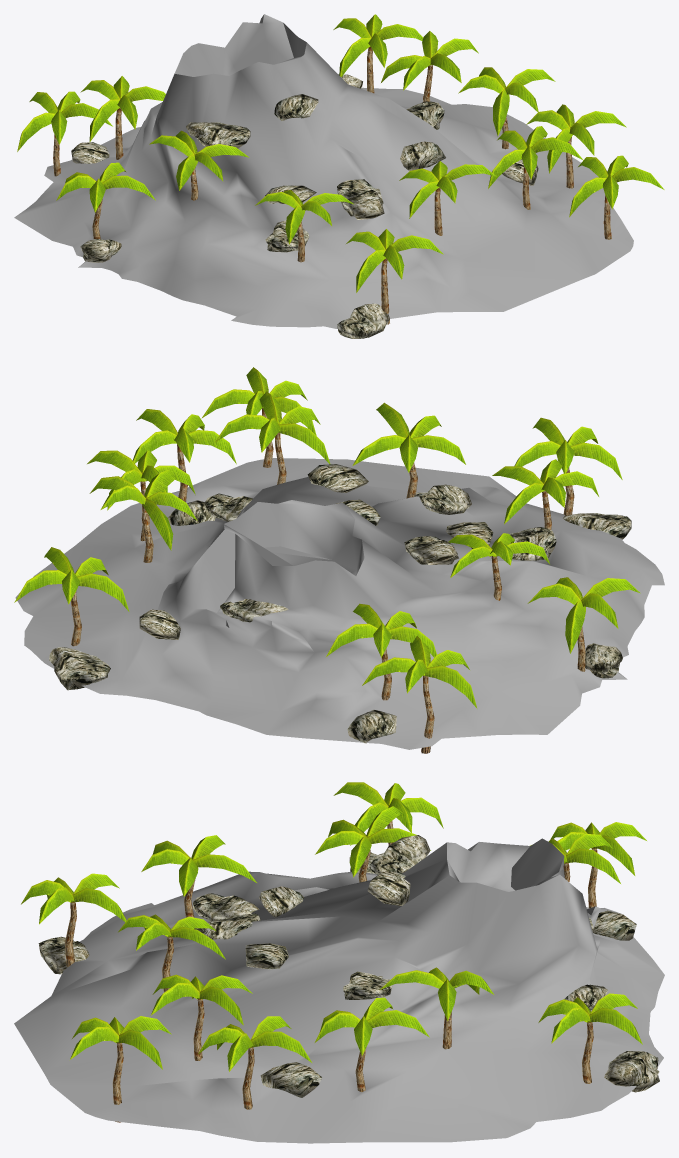
The model's file is island_14.fbx.
The picture shows the model from 3 angles, top to bottom: view 1: azimuth 30°, elevation 25°; view 2: azimuth 150°, elevation 25°; view 3: azimuth 270°, elevation 25°; orthographic projection. The views are drawn at different scales.
Parts seen in each view (by area): view 1: polySurface94; view 2: polySurface94; view 3: polySurface94.
Part boxes in pixels (x1,y1,x2,y2): polySurface94: (14,14,664,338); polySurface94: (14,367,664,753); polySurface94: (14,782,664,1143).
Bounding box in the file's own units: 41.77 × 11.32 × 40.85.
